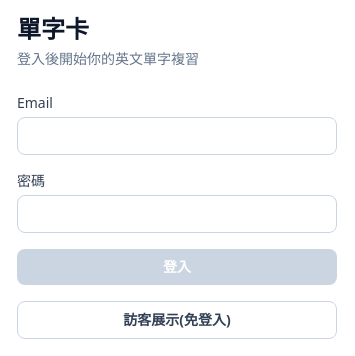
it: 送出:signIn 收到去空白的 email;送出期間按鈕變「登入中…」並停用
In the field labelled "Email": (177, 136) 17,117 -> 337,155, type "  user@example.com  "
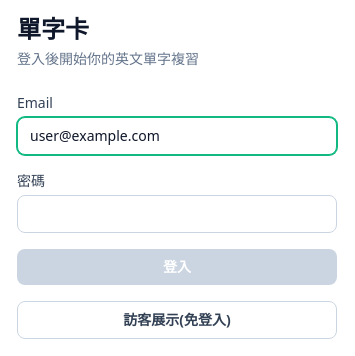
In the password field labelled "密碼": (177, 214) 17,195 -> 337,233, type "secret123"
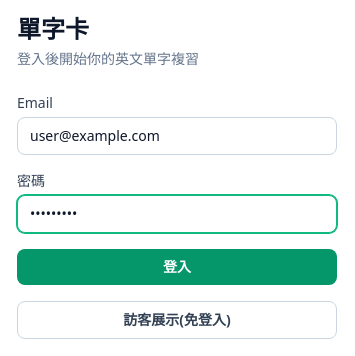
Click the button "登入": (177, 267) 17,249 -> 337,285
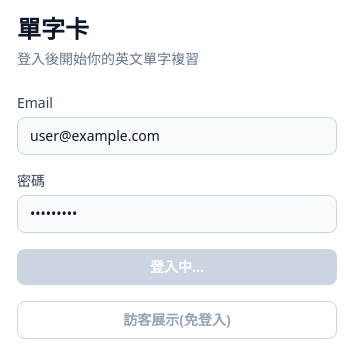
Check: the button "登入中…" is disabled, box 17,249 -> 337,285
